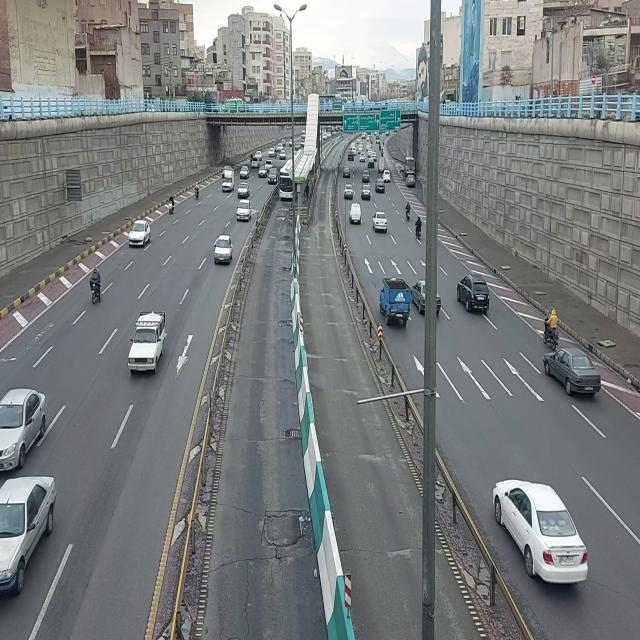Bus: (279, 158, 293, 200)
Car: (492, 478, 589, 586), (544, 344, 602, 400), (457, 272, 491, 316), (128, 218, 152, 250), (214, 232, 234, 268), (412, 275, 427, 319), (372, 209, 388, 233), (236, 198, 252, 222), (237, 182, 251, 200), (268, 167, 279, 187), (375, 176, 386, 194), (344, 182, 354, 200), (361, 183, 371, 201), (405, 174, 417, 189), (382, 169, 392, 184), (258, 165, 268, 180), (239, 165, 249, 179), (343, 166, 352, 180), (251, 157, 261, 169), (362, 168, 370, 182), (279, 149, 287, 161), (367, 157, 375, 169), (360, 152, 367, 164), (348, 150, 355, 162), (254, 149, 262, 159), (367, 148, 374, 158), (265, 159, 273, 167), (276, 143, 284, 151), (268, 146, 274, 156), (295, 142, 301, 152), (281, 138, 287, 146), (358, 145, 364, 153), (350, 141, 355, 149)
Motorcycle: (543, 306, 559, 352), (90, 266, 102, 306), (415, 213, 423, 243), (168, 195, 175, 217), (405, 200, 412, 221), (193, 181, 199, 203), (250, 153, 254, 165), (274, 148, 278, 158), (381, 148, 385, 158), (379, 143, 382, 153)
Pickup: (126, 309, 166, 377), (378, 275, 414, 329), (221, 166, 235, 194), (349, 202, 362, 226), (378, 157, 386, 173)
